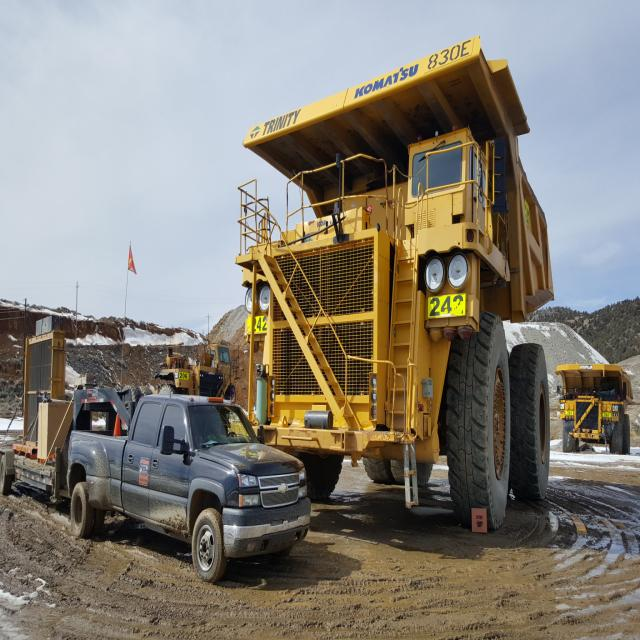dump_truck: (235, 59, 556, 540), (557, 357, 633, 465)
light_vehicle: (59, 378, 319, 588)
